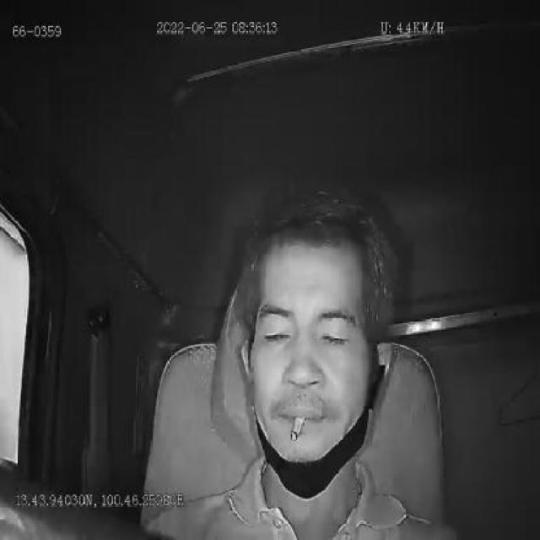smoking: (289, 416, 304, 444)
